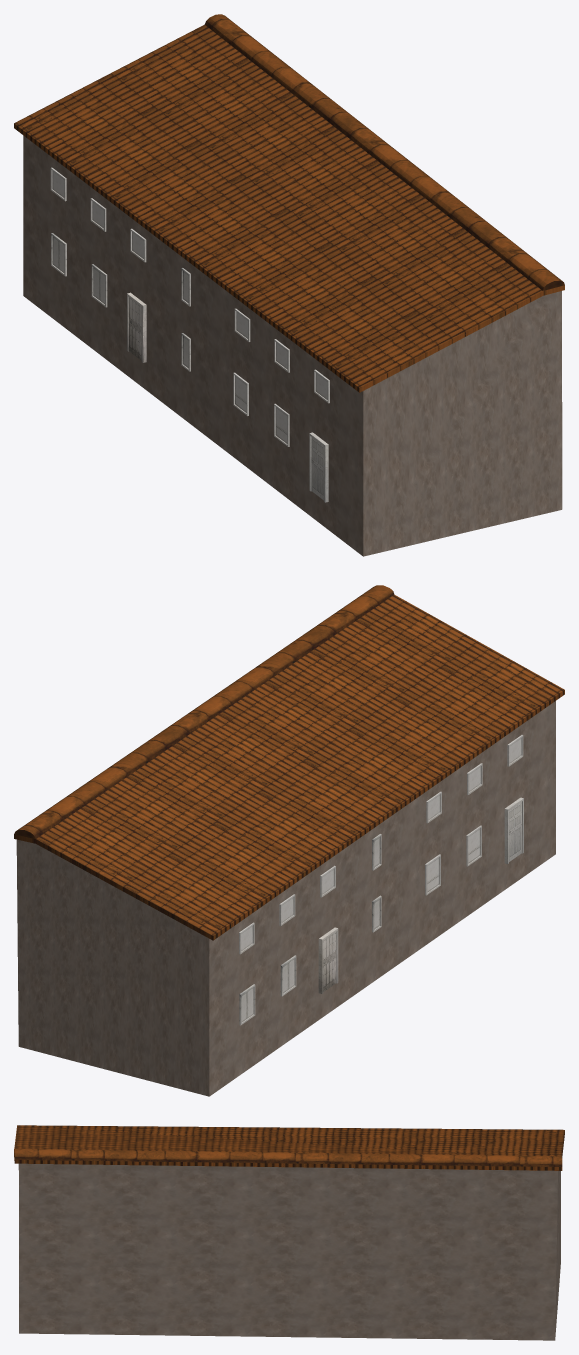
Rendered from Casa_11.fbx.
The picture shows the model from 3 angles, top to bottom: view 1: azimuth 30°, elevation 25°; view 2: azimuth 150°, elevation 25°; view 3: azimuth 270°, elevation 25°; orthographic projection. The views are drawn at different scales.
Parts seen in each view (by area): view 1: Casa_11; view 2: Casa_11; view 3: Casa_11.
Boxes of the visible parts, x1=… form: Casa_11: x1=14, y1=14, x2=564, y2=556; Casa_11: x1=14, y1=585, x2=564, y2=1096; Casa_11: x1=14, y1=1125, x2=564, y2=1340.
Bounding box in the file's own units: 8.18 × 8.18 × 22.83.
